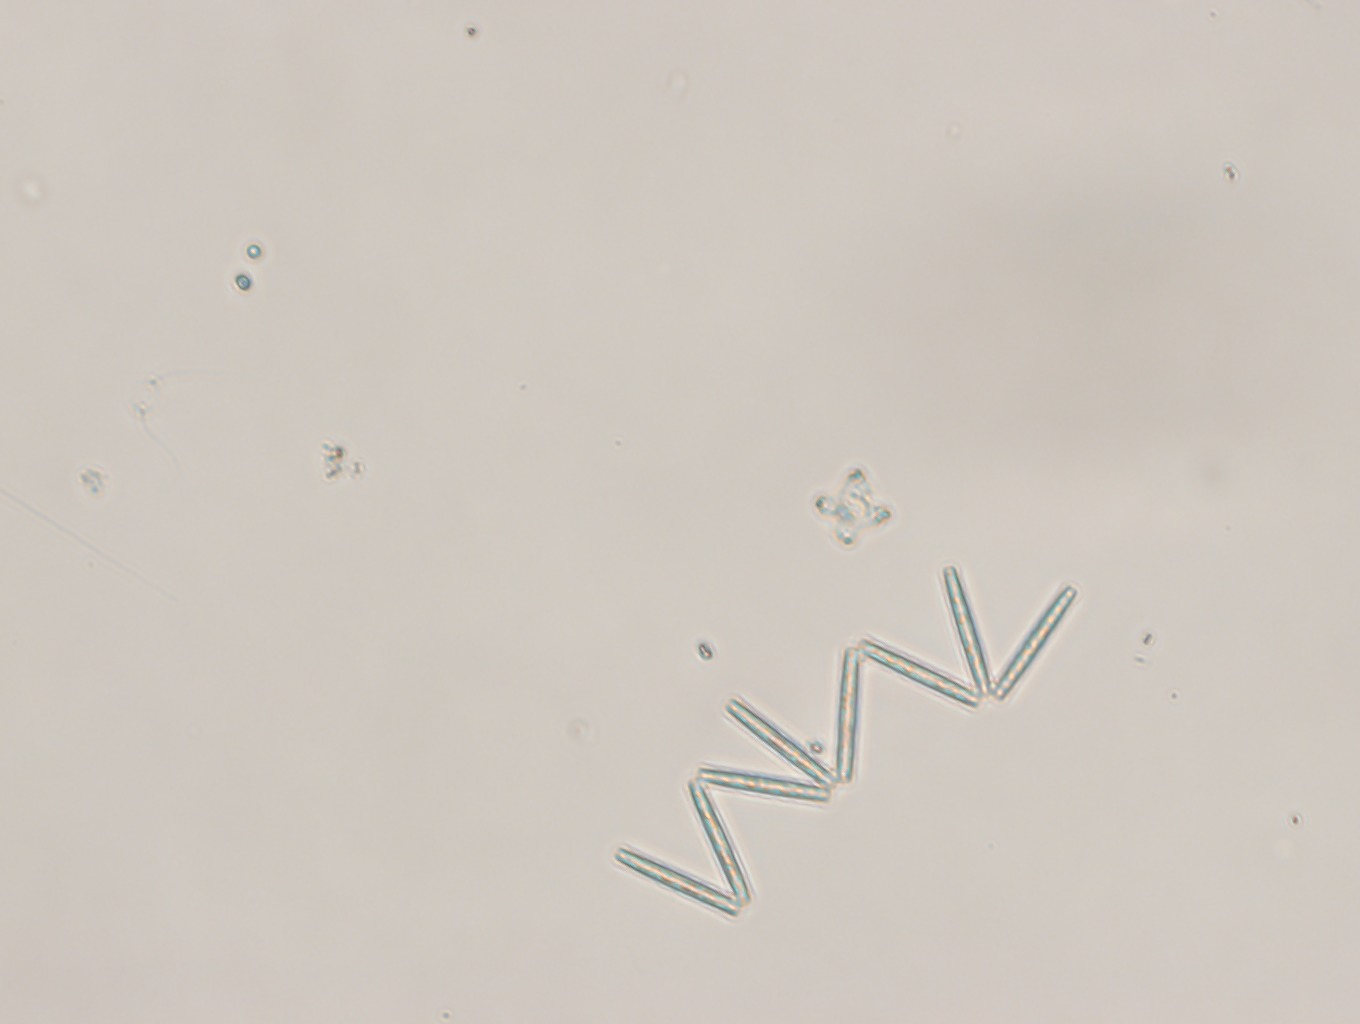thalassionema nitzschioides: (610, 555, 1085, 922)
